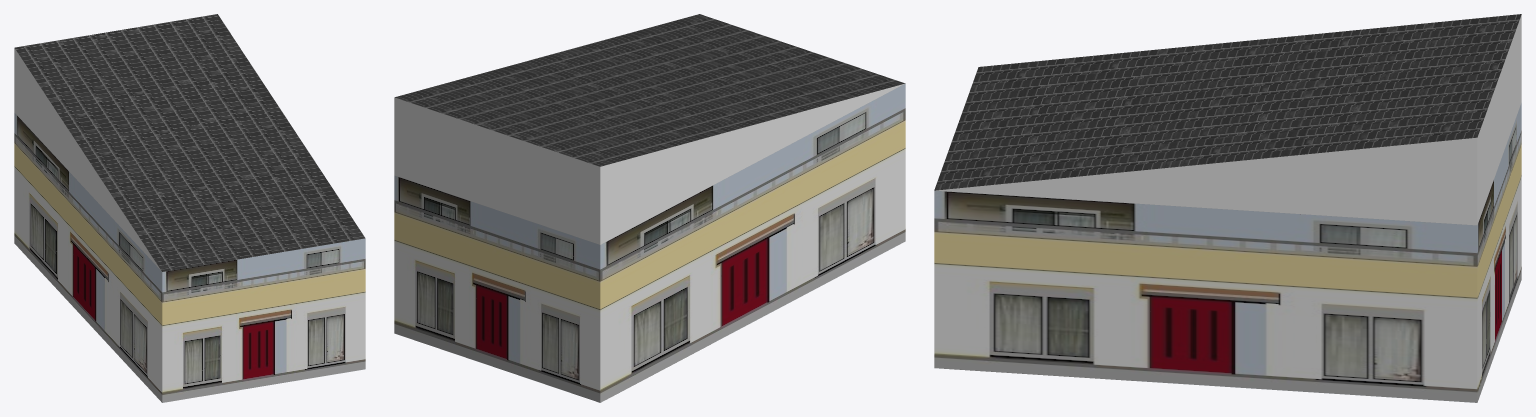
3 views of the same model, side by side, from view 1: azimuth 30°, elevation 25°; view 2: azimuth 150°, elevation 25°; view 3: azimuth 270°, elevation 25° (orthographic). The views are drawn at different scales.
Visible parts, largest first — view 1: CityEngineMaterial_16_m, CityEngineMaterial_15_m, CityEngineMaterial_3_m; view 2: CityEngineMaterial_15_m, CityEngineMaterial_16_m, CityEngineMaterial_3_m; view 3: CityEngineMaterial_15_m, CityEngineMaterial_16_m, CityEngineMaterial_3_m.
Boxes of the visible parts, box(x1,y1,x2,y2) form: CityEngineMaterial_16_m: box(15, 14, 364, 271); CityEngineMaterial_15_m: box(14, 113, 365, 402); CityEngineMaterial_3_m: box(14, 48, 161, 271); CityEngineMaterial_15_m: box(394, 83, 905, 402); CityEngineMaterial_16_m: box(395, 14, 905, 166); CityEngineMaterial_3_m: box(394, 83, 904, 244); CityEngineMaterial_15_m: box(934, 103, 1521, 402); CityEngineMaterial_16_m: box(934, 14, 1521, 190); CityEngineMaterial_3_m: box(936, 15, 1521, 225).
Bounding box in the file's own units: 15.88 × 12.4 × 24.88.
